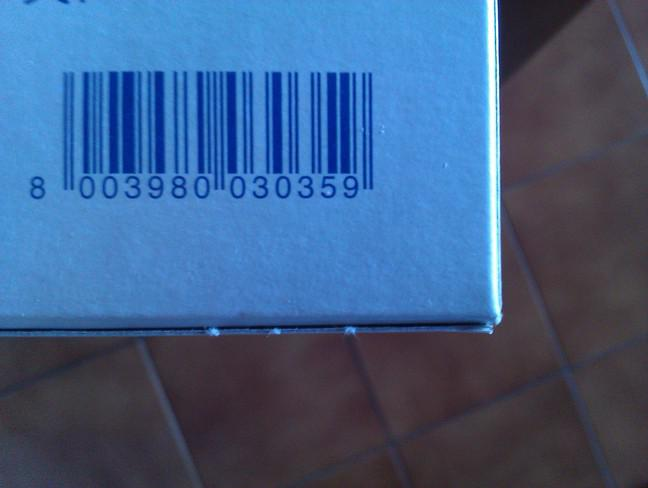Barkod: (21, 51, 382, 214)
